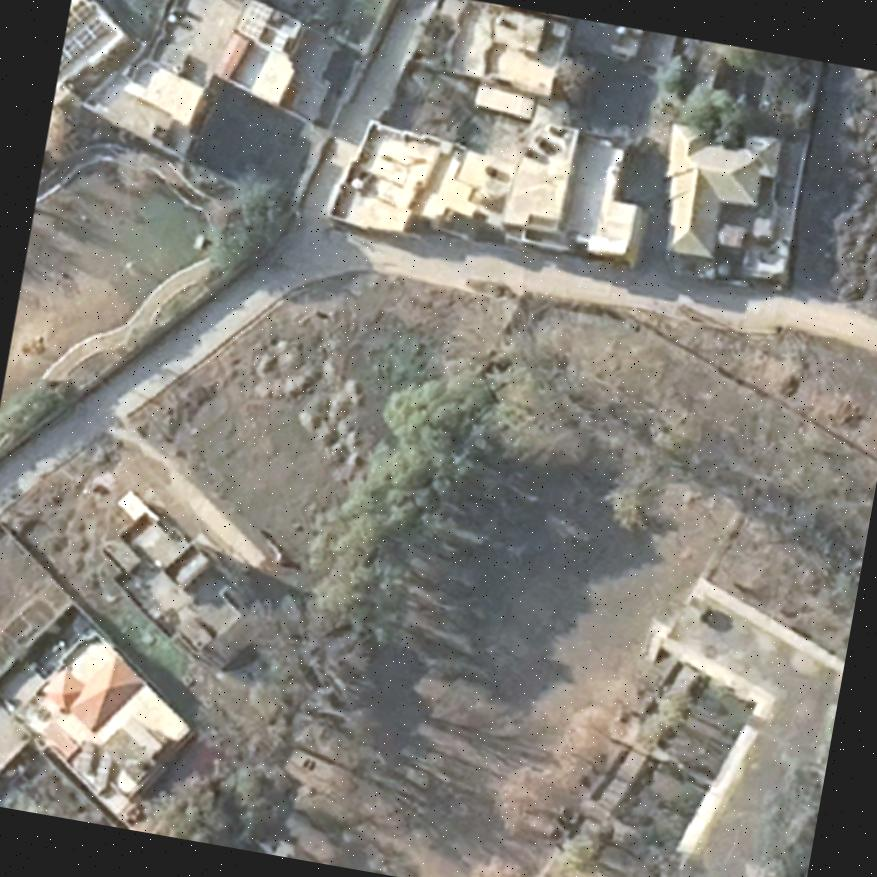Solarpanel: (57, 0, 114, 87)
